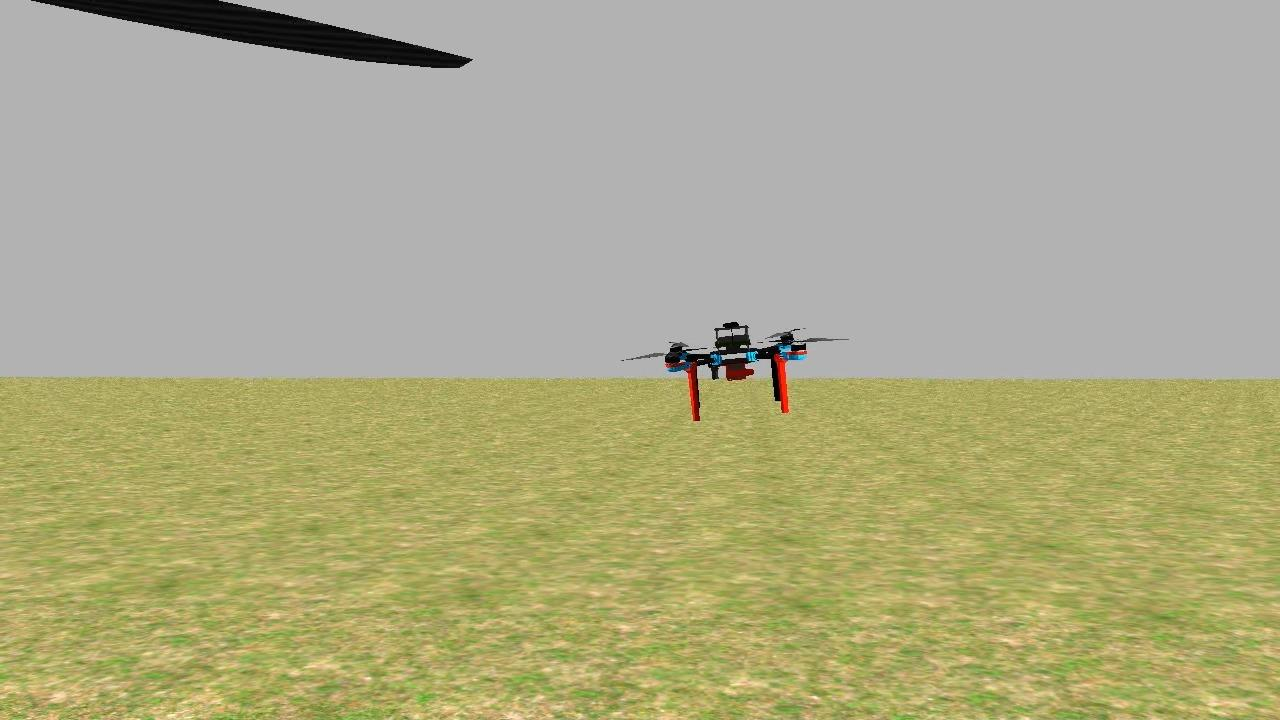UAV: (656, 314, 824, 429)
